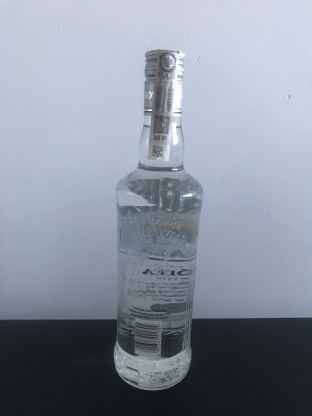nakretka: (140, 45, 187, 120)
